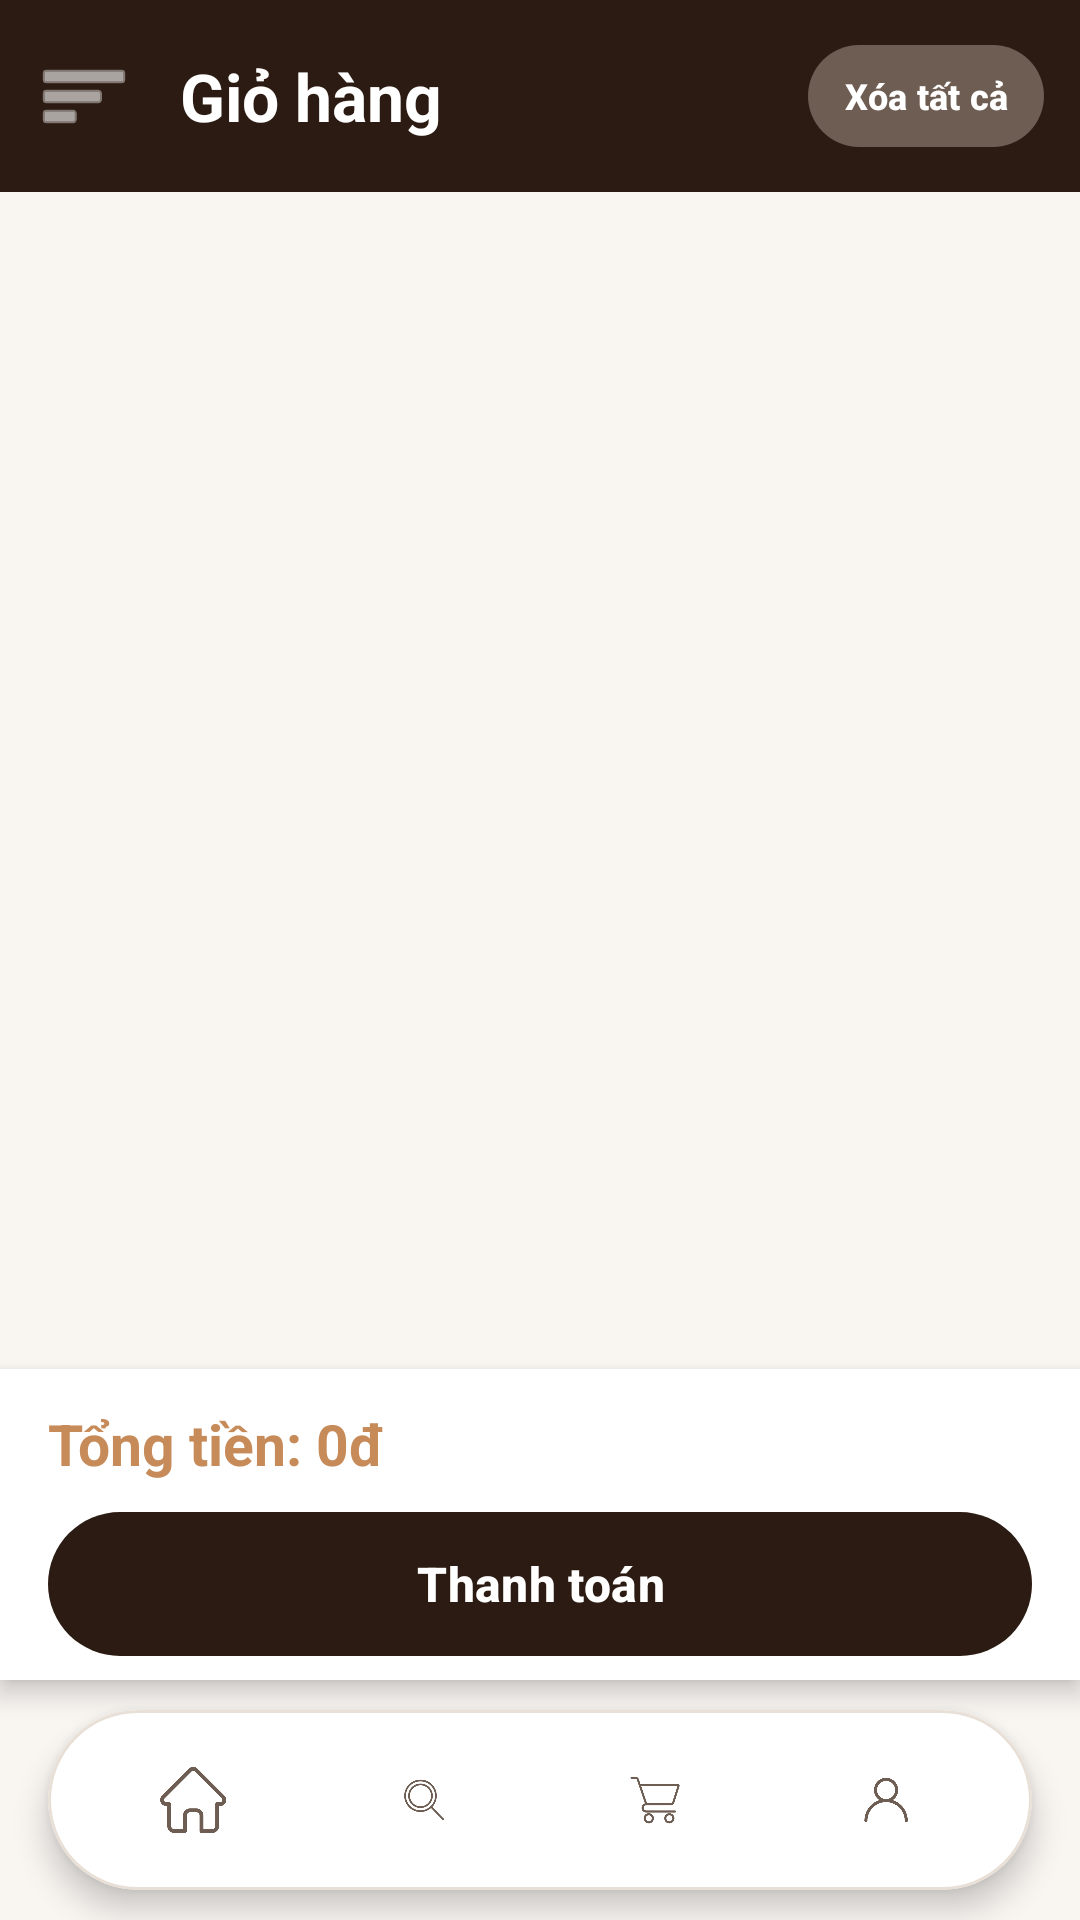

Locate icon controls on the screen. Image size 1080px x 1920px, boxes as (x1, y1, x2, y2).
account: (864, 1778, 908, 1822)
cart: (630, 1777, 680, 1824)
home: (160, 1767, 226, 1833)
